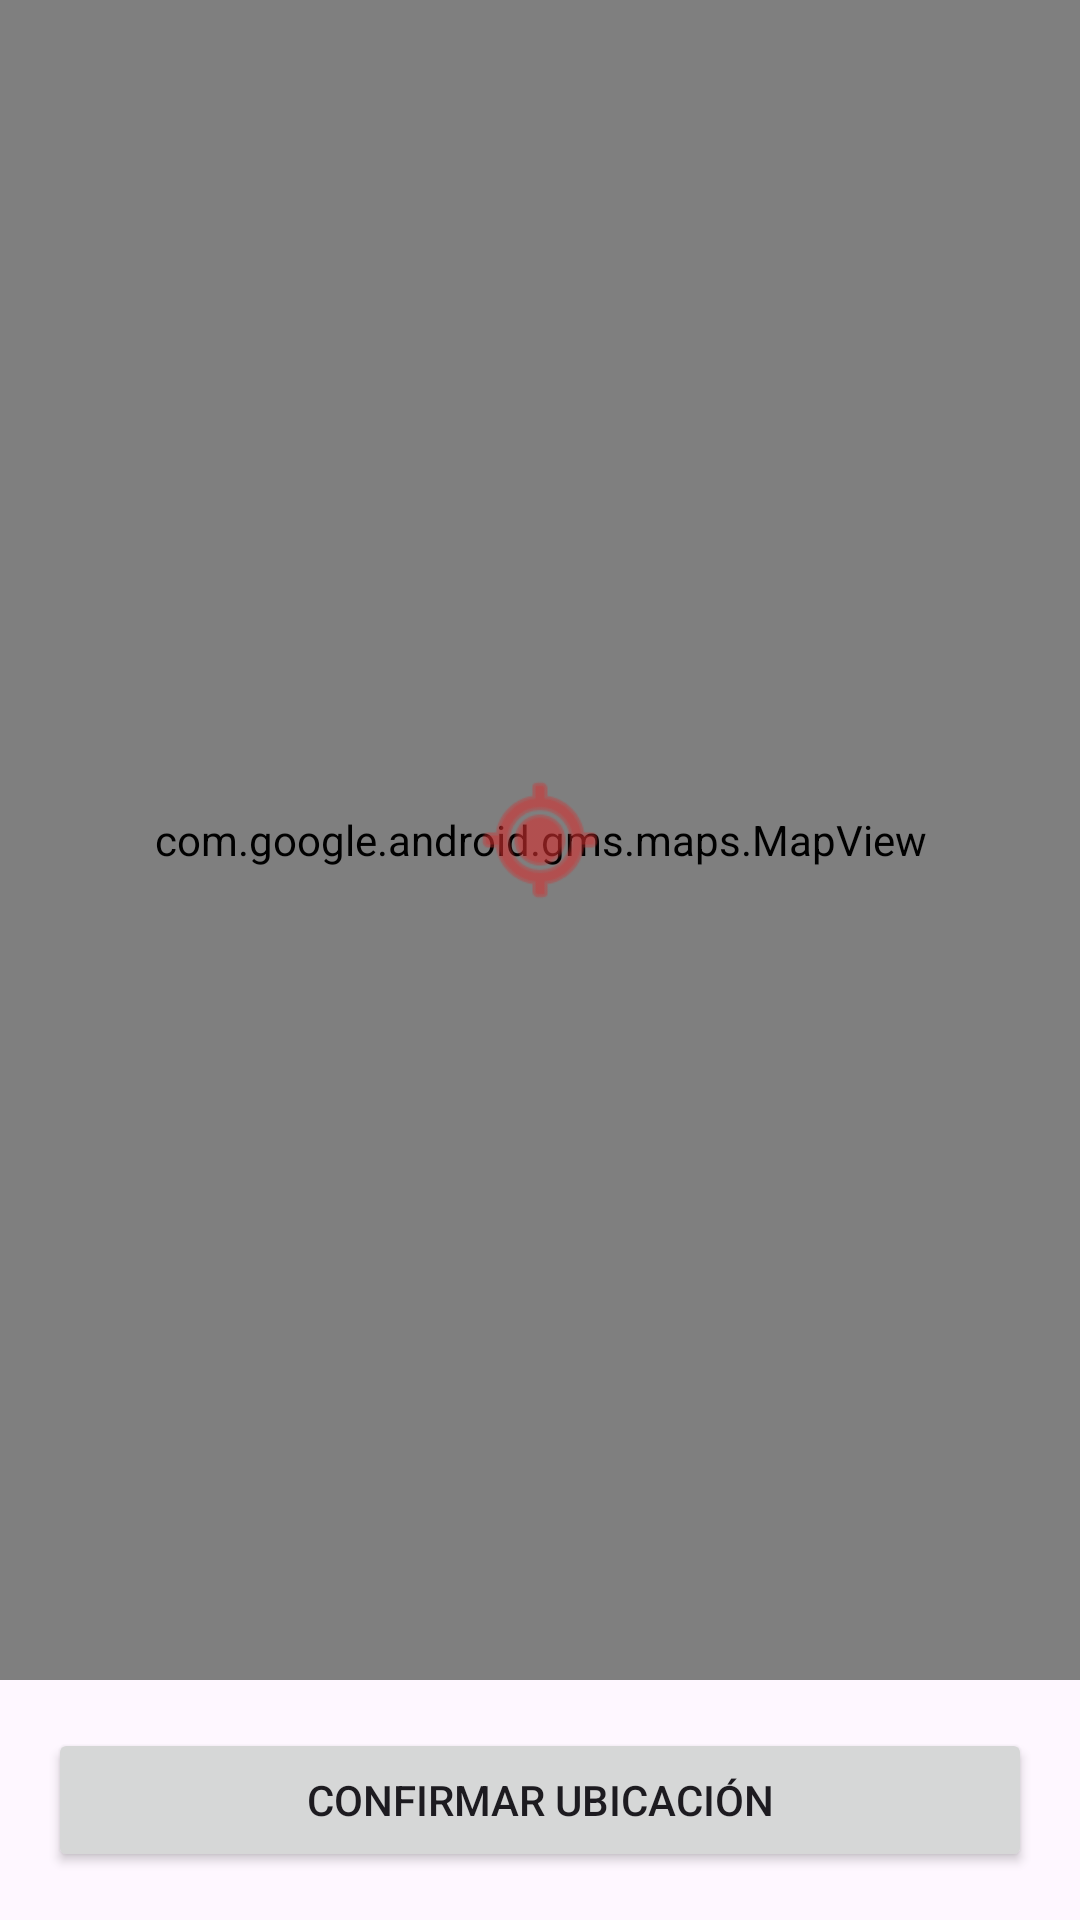

Locate icon controls on the screen. Image size 1080×1920, boxes as (x1, y1, x2, y2).
mylocation: (474, 783, 599, 897)
